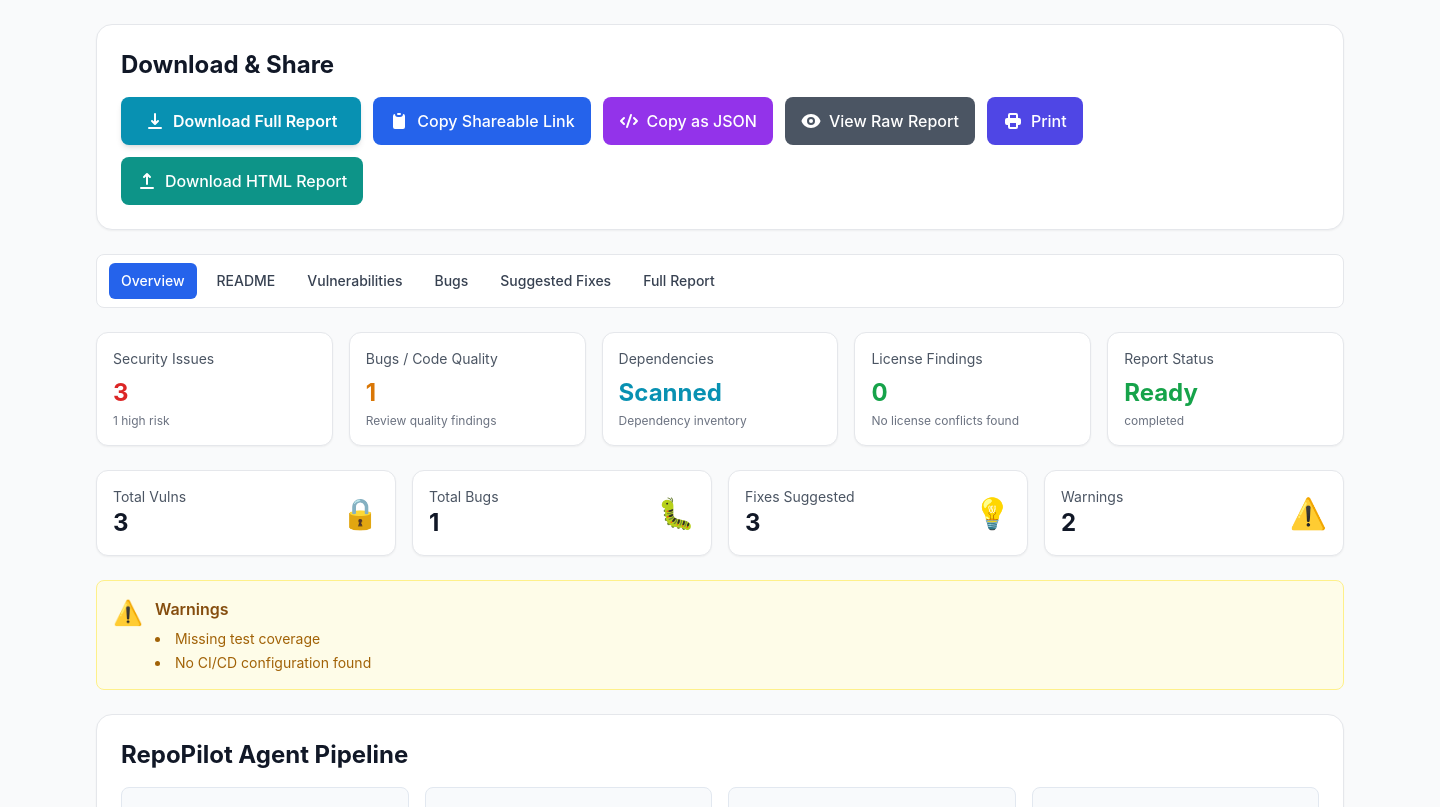
ResultsDashboard › Sorting › rows are sorted HIGH before MEDIUM before LOW
Step 1. Click the tab "Vulnerabilities" → point(355, 281), box x1=295 y1=263 x2=414 y2=299
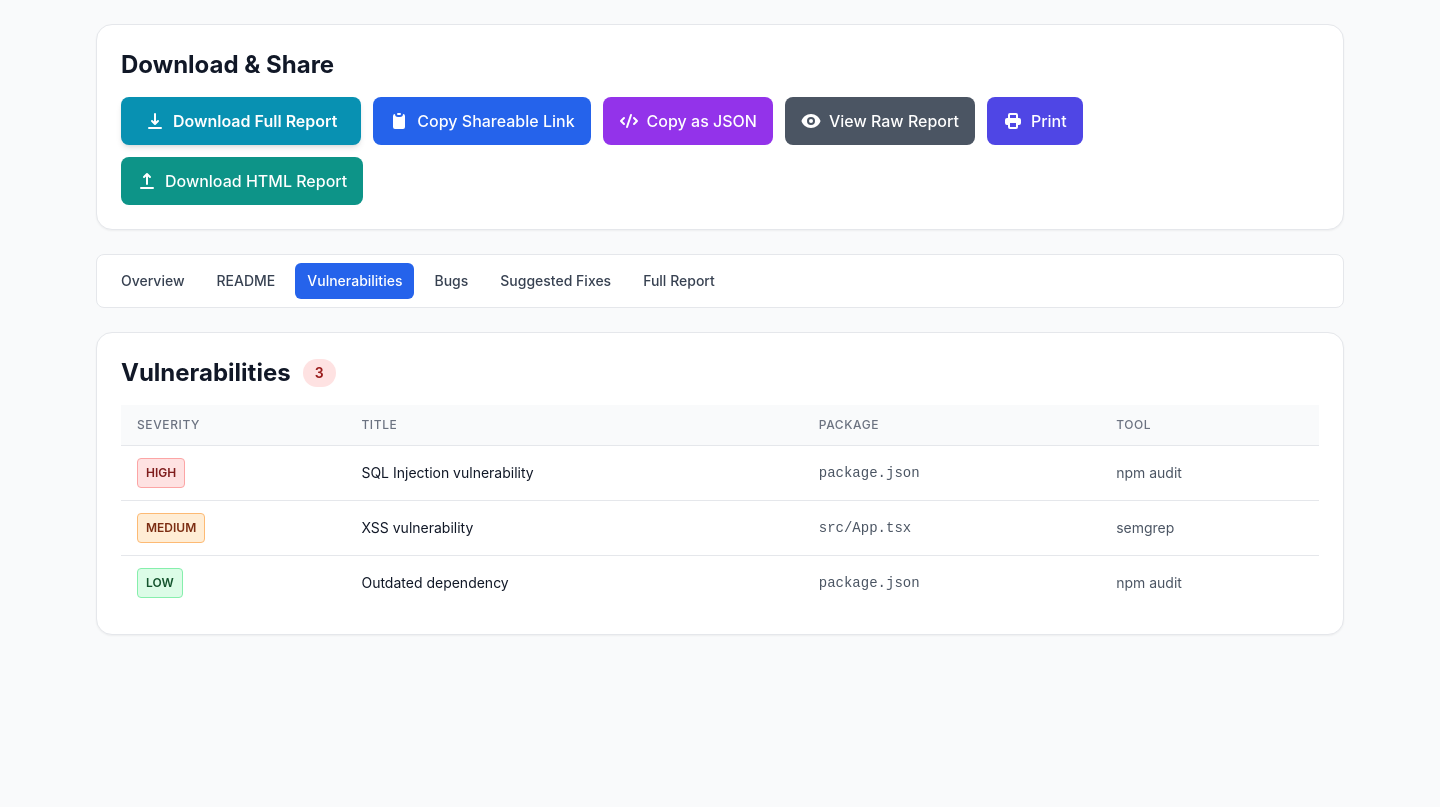
Expected: the text "HIGH" is shown, x1=137 y1=458 x2=185 y2=488
Expected: the text "MEDIUM" is shown, x1=137 y1=513 x2=205 y2=543
Expected: the text "LOW" is shown, x1=137 y1=568 x2=183 y2=598
